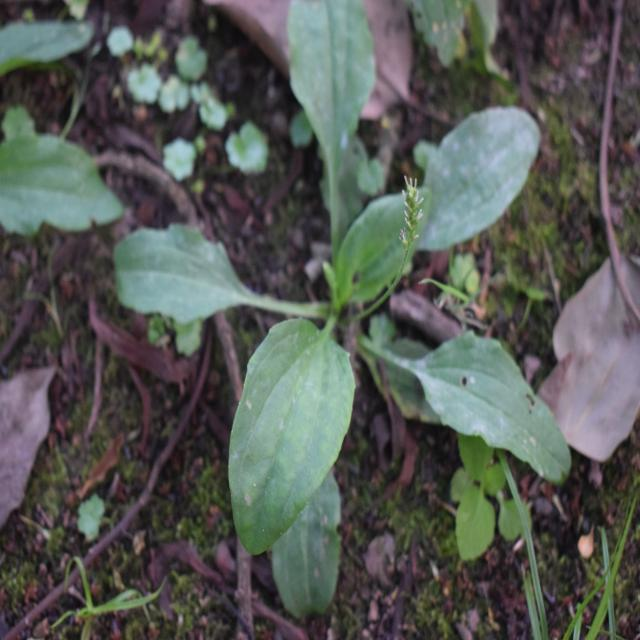plantain: (178, 39, 558, 554)
